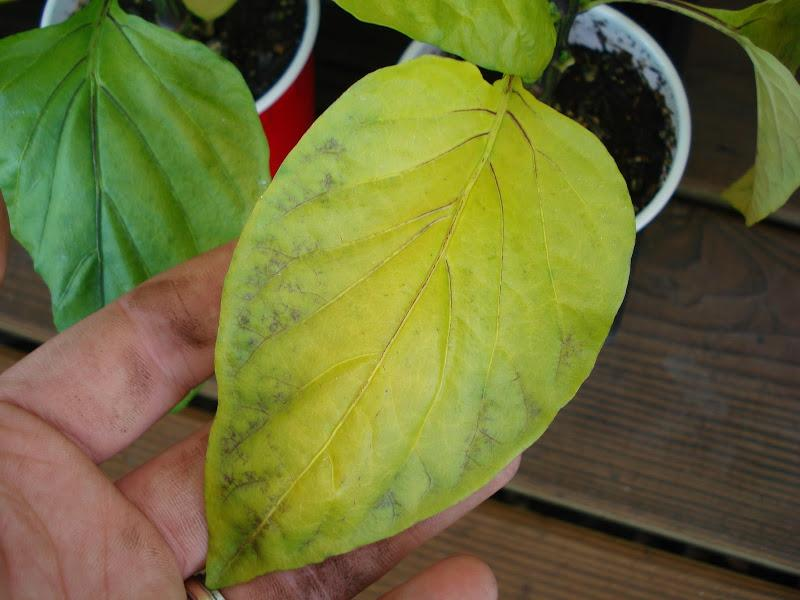Bell_pepper leaf spot: (193, 49, 642, 590)
